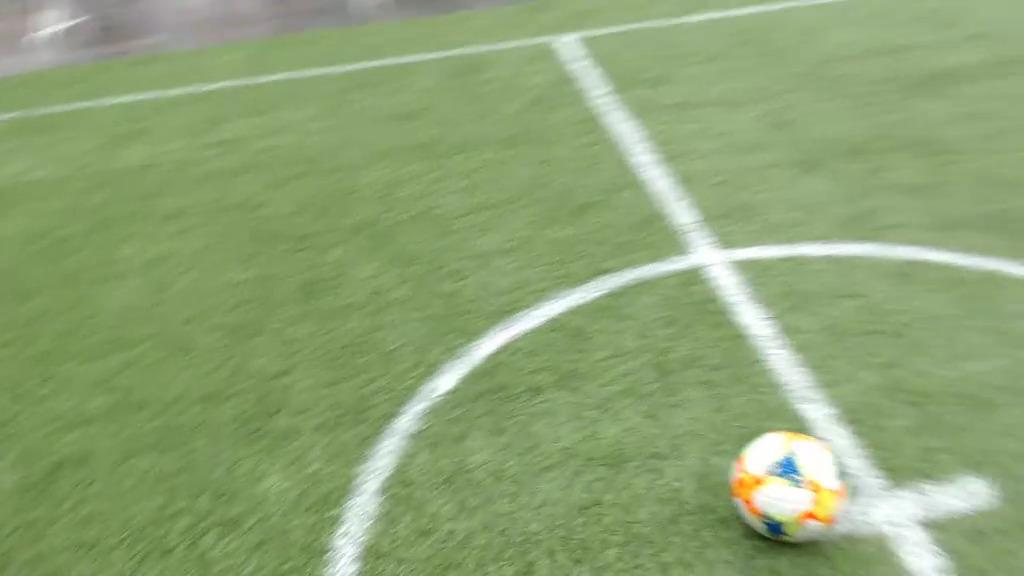ball: (729, 430, 847, 543)
